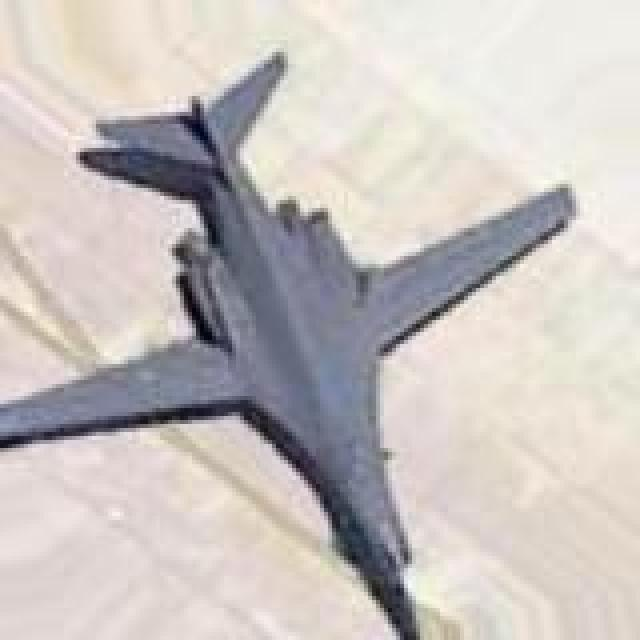B-1_TopDown: (0, 44, 576, 636)
